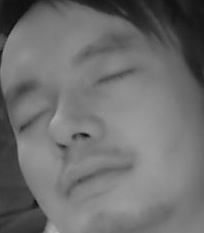blink: (95, 63, 137, 92), (19, 105, 55, 134)
mouth: (54, 157, 134, 201)
